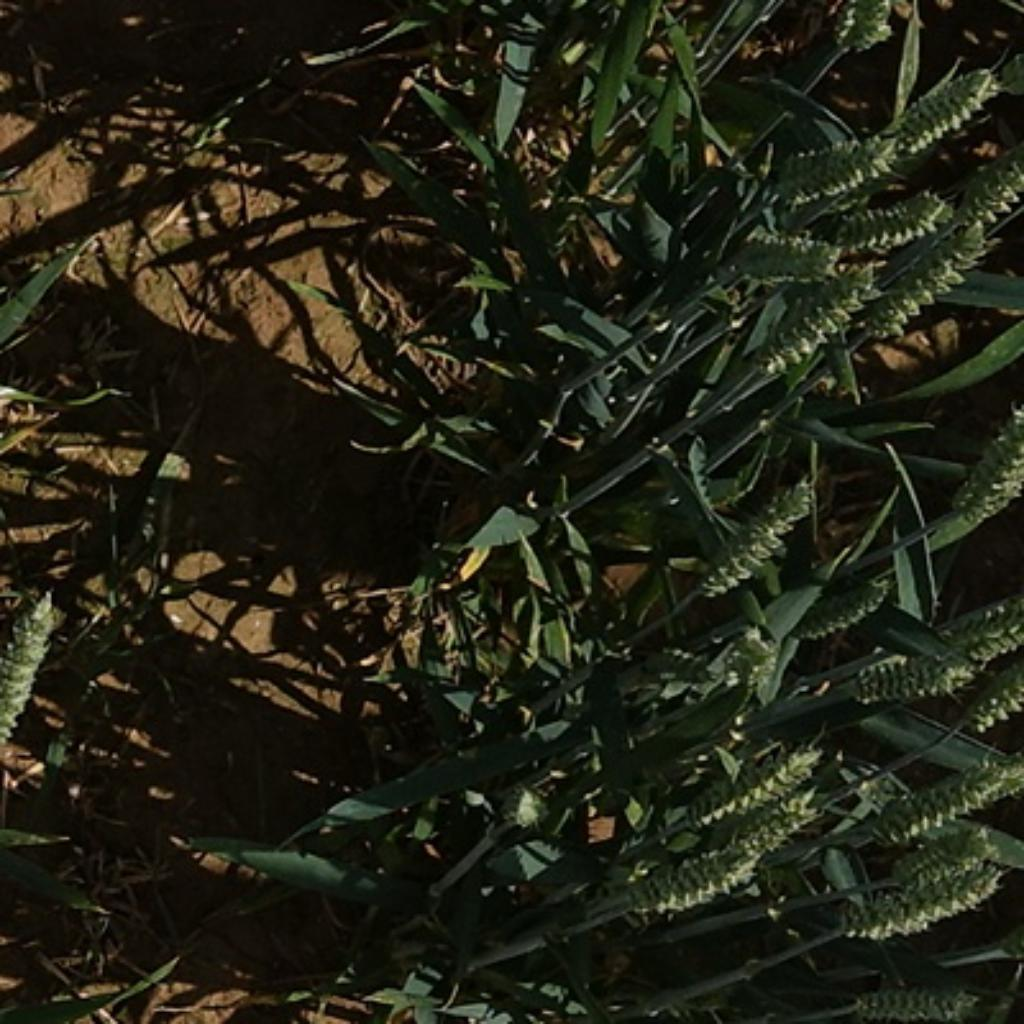0-0: (729, 245, 883, 384), (683, 453, 826, 599), (676, 732, 832, 865), (860, 222, 993, 348), (885, 752, 1023, 848), (829, 865, 1000, 942), (621, 848, 778, 927), (760, 128, 911, 204), (883, 56, 998, 148), (908, 593, 1024, 683), (0, 583, 64, 744), (706, 791, 832, 872), (826, 189, 967, 253), (883, 824, 1003, 896), (791, 558, 893, 640), (727, 215, 842, 286), (844, 642, 970, 704), (960, 412, 1024, 532), (844, 970, 985, 1024), (698, 622, 785, 693), (816, 2, 911, 66), (942, 668, 1024, 737), (954, 161, 1024, 232), (494, 776, 554, 835)
